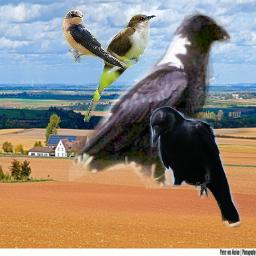Crow: (69, 7, 232, 189), (149, 106, 241, 230)
Cuckoo: (83, 13, 157, 122)
Swallow: (62, 6, 130, 71)
